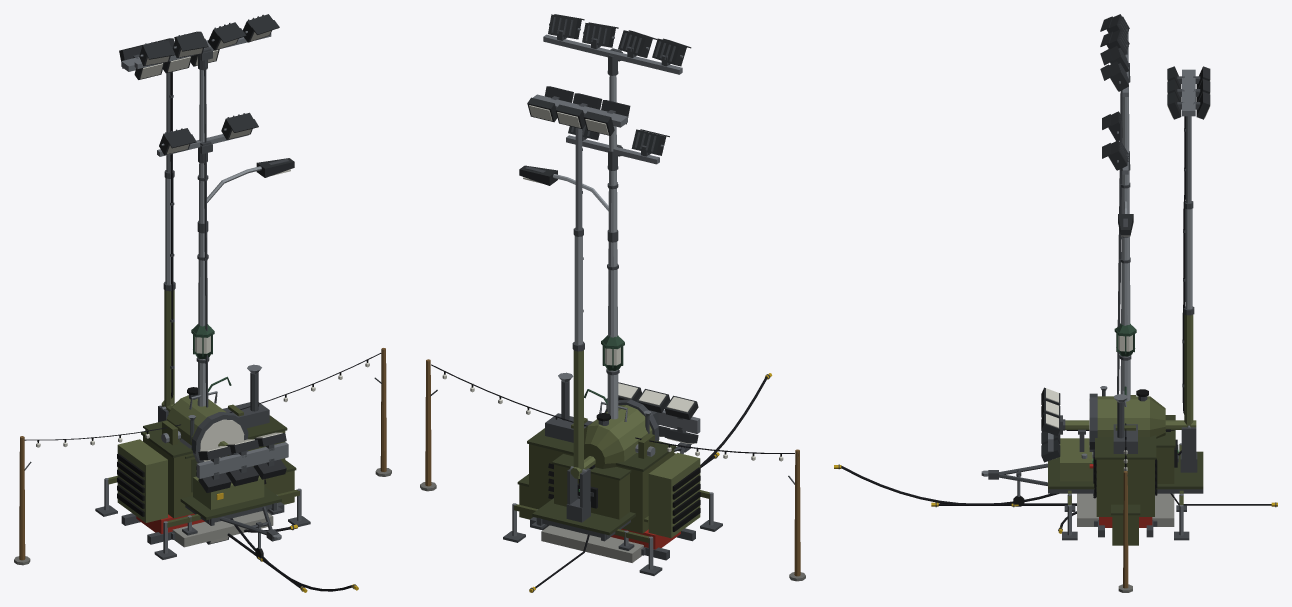
File: lights_pack.glb
3 renders of one model, left to right at view 1: azimuth 30°, elevation 25°; view 2: azimuth 150°, elevation 25°; view 3: azimuth 270°, elevation 25°, orthographic. The views are drawn at different scales.
Visible parts, largest first — view 1: light_tower, generator_large, floodlight_pole_4, light_tower_lowered, searchlight_head, string_lights_8m, floodlight_pole_2, searchlight_ground, lamp_cobra, lamp_harbour; view 2: light_tower, generator_large, floodlight_pole_4, searchlight_head, light_tower_lowered, string_lights_8m, searchlight_ground, floodlight_pole_2, lamp_cobra, lamp_harbour; view 3: light_tower, generator_large, floodlight_pole_4, searchlight_head, searchlight_ground, light_tower_lowered, floodlight_pole_2, string_lights_8m, cableseg_sag_6m, lamp_harbour.
Boxes of the visible parts, x1,y1,x2,y2 form: light_tower: (95,31,310,559); generator_large: (117,364,287,544); floodlight_pole_4: (134,14,279,407); light_tower_lowered: (161,400,288,535); searchlight_head: (166,387,248,463); string_lights_8m: (14,348,391,565); floodlight_pole_2: (157,112,258,382); searchlight_ground: (172,460,296,547); lamp_cobra: (197,158,294,233); lamp_harbour: (191,324,231,391); light_tower: (503,86,722,575); generator_large: (527,372,700,560); floodlight_pole_4: (543,14,691,419); searchlight_head: (584,399,659,469); light_tower_lowered: (531,382,700,550); string_lights_8m: (420,359,805,581); searchlight_ground: (517,474,643,562); floodlight_pole_2: (566,125,669,372); lamp_cobra: (519,165,618,242); lamp_harbour: (584,335,624,404); light_tower: (981,66,1210,540); generator_large: (1089,394,1157,537); floodlight_pole_4: (1100,14,1131,401); searchlight_head: (1089,389,1170,451); searchlight_ground: (1077,493,1174,545); light_tower_lowered: (1041,387,1196,511); floodlight_pole_2: (1102,111,1130,394); string_lights_8m: (1118,423,1132,592); cableseg_sag_6m: (834,464,1058,505); lamp_harbour: (1114,323,1136,400).
Size of the model in its own units: 8.42 by 10.81 by 9.13.
